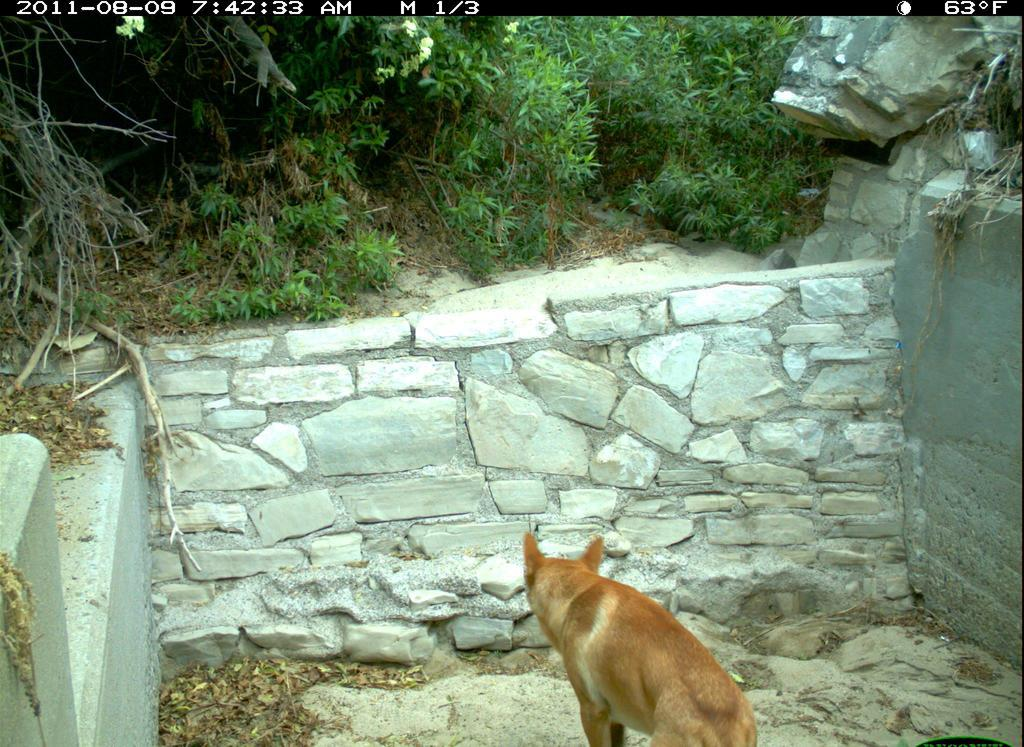dog: (515, 521, 767, 747)
